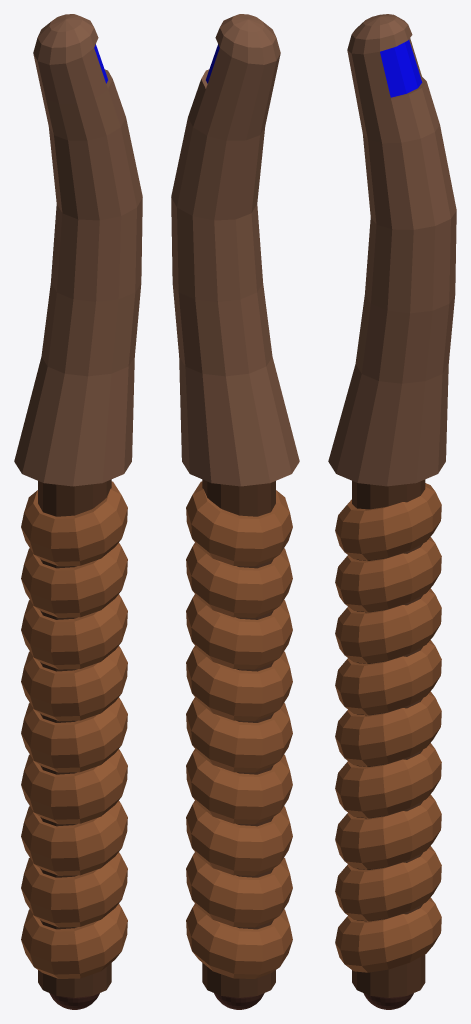
The model's file is Wand 443.glb.
The picture shows the model from 3 angles, left to right: view 1: azimuth 30°, elevation 25°; view 2: azimuth 150°, elevation 25°; view 3: azimuth 330°, elevation 25°; orthographic projection.
Visible parts, largest first — view 1: GeneratedWand; view 2: GeneratedWand; view 3: GeneratedWand.
Part boxes in pixels (x1=…): GeneratedWand: x1=14, y1=14, x2=142, y2=1009; GeneratedWand: x1=171, y1=14, x2=299, y2=1009; GeneratedWand: x1=328, y1=14, x2=456, y2=1009.
Bounding box in the file's own units: 0.0644 × 0.5297 × 0.0581.
